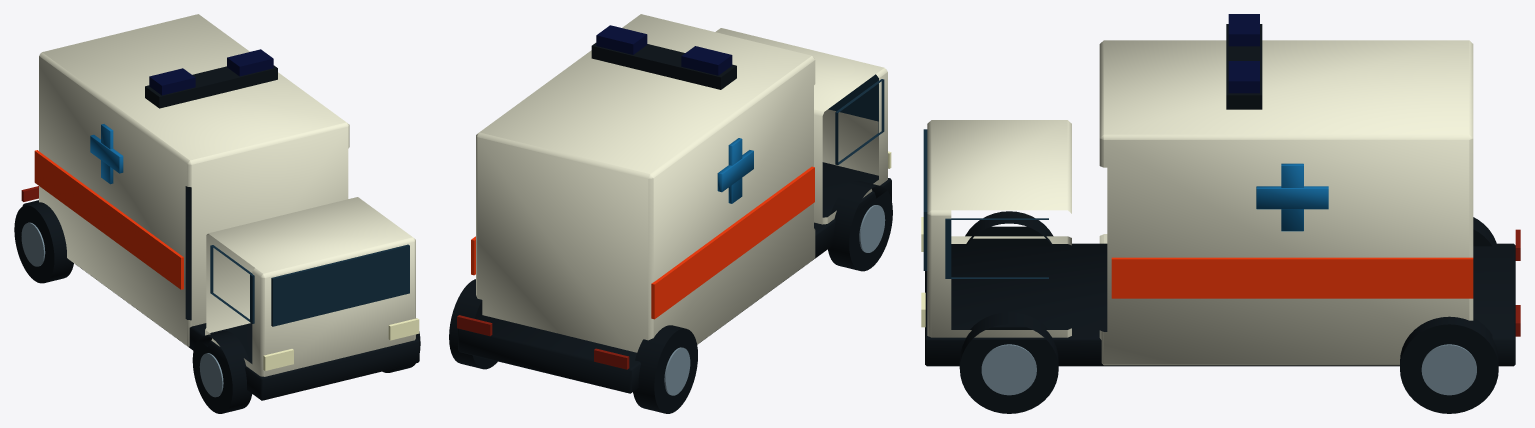
Rendered from ambulance-body.glb.
3 views of the same model, side by side, from view 1: azimuth 30°, elevation 25°; view 2: azimuth 150°, elevation 25°; view 3: azimuth 270°, elevation 25° (orthographic). The views are drawn at different scales.
Bounding box in the file's own units: 2.26 × 2.84 × 4.97.
1 material, 1 textured.
